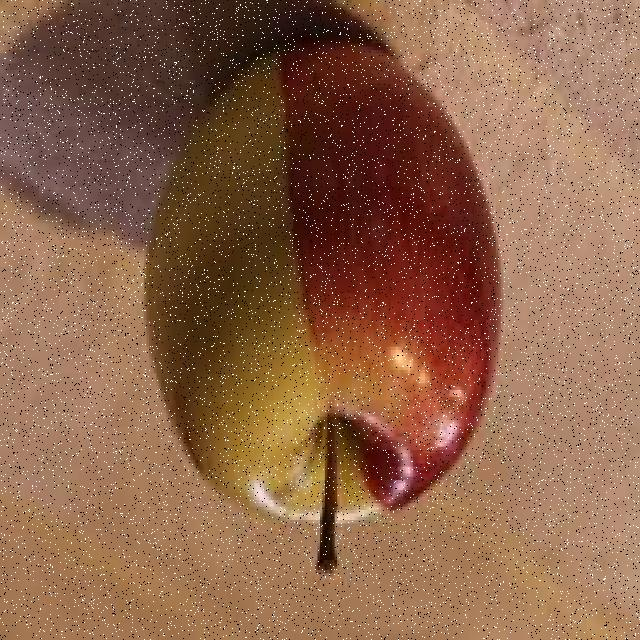Apple: (141, 36, 500, 528)
